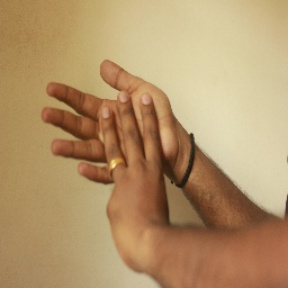M: (42, 56, 181, 226)
